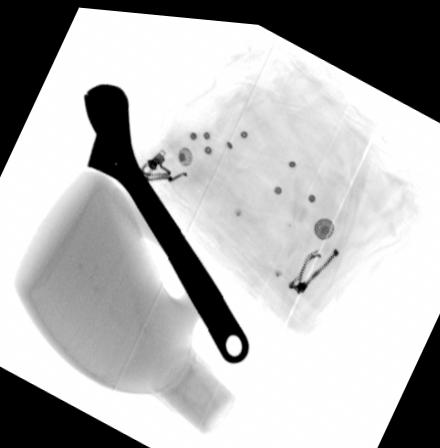Wrench: (80, 79, 250, 361)
